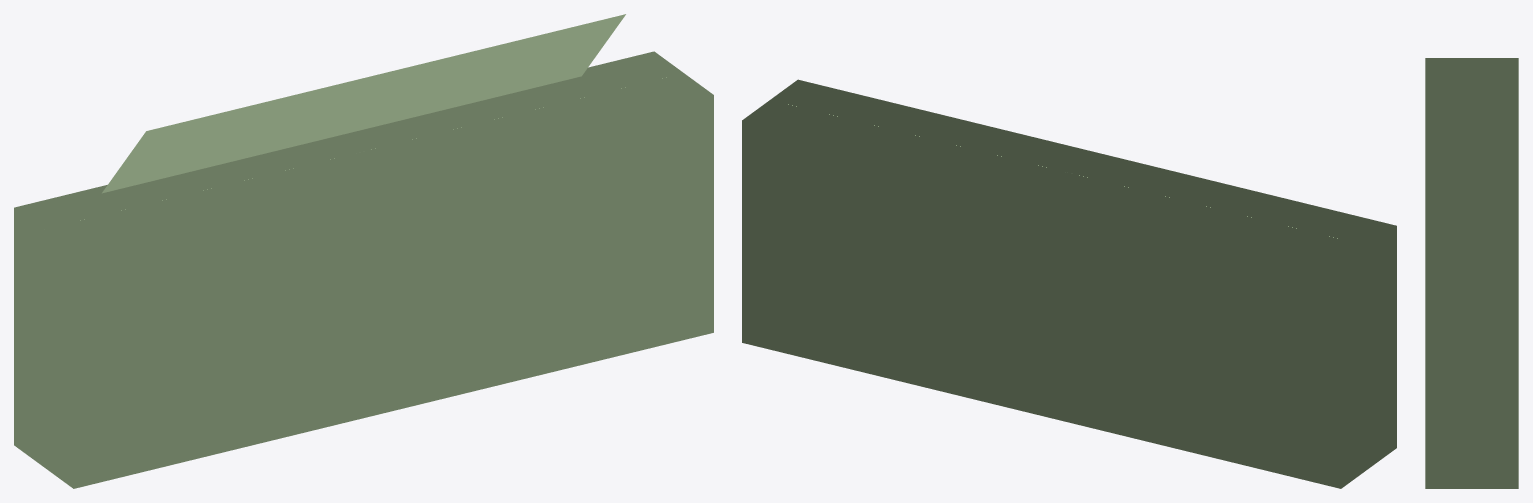
Rendered from trap_t2_tripwire_grenade.glb.
3 renders of one model, left to right at view 1: azimuth 30°, elevation 25°; view 2: azimuth 150°, elevation 25°; view 3: azimuth 270°, elevation 25°, orthographic. The views are drawn at different scales.
Visible parts, largest first — view 1: trap_t2_tripwire_grenade; view 2: trap_t2_tripwire_grenade; view 3: trap_t2_tripwire_grenade.
Boxes of the visible parts, x1,y1,x2,y2 form: trap_t2_tripwire_grenade: (14, 14, 713, 488); trap_t2_tripwire_grenade: (742, 79, 1396, 488); trap_t2_tripwire_grenade: (1425, 58, 1518, 488).
Size of the model in its own units: 0.62 by 0.308 by 0.1.
